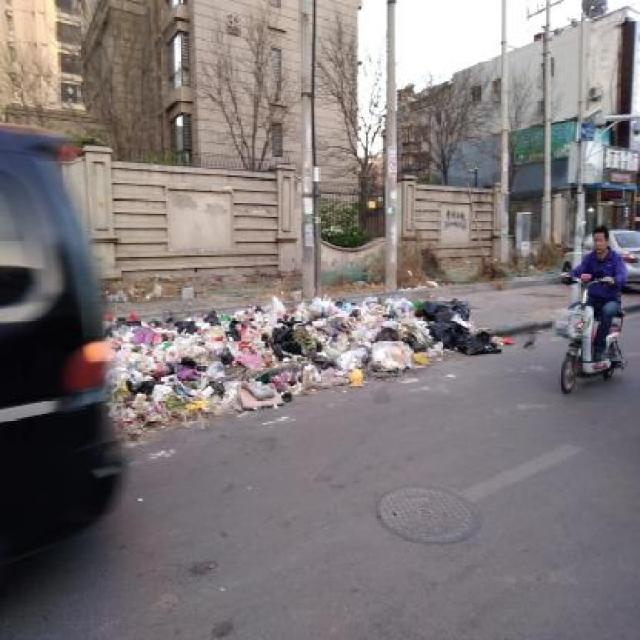garbage: (248, 294, 492, 383), (114, 303, 275, 426)
